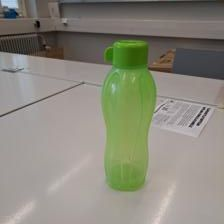bottle: (99, 39, 159, 191)
